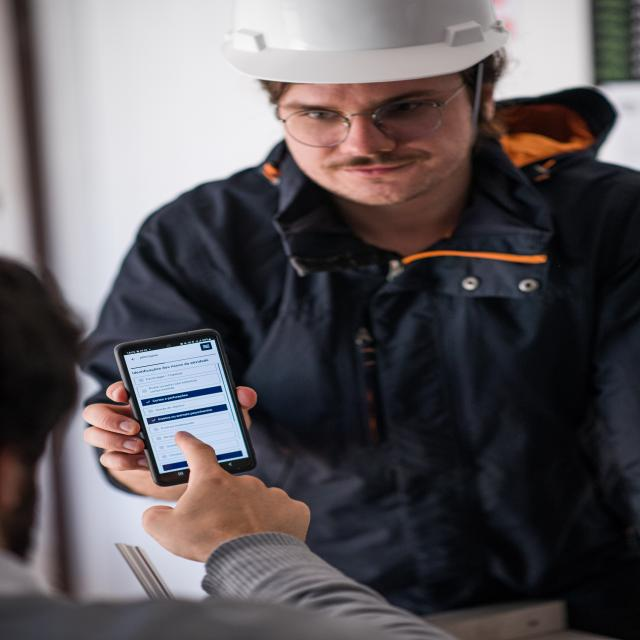capacete: (214, 0, 518, 89)
